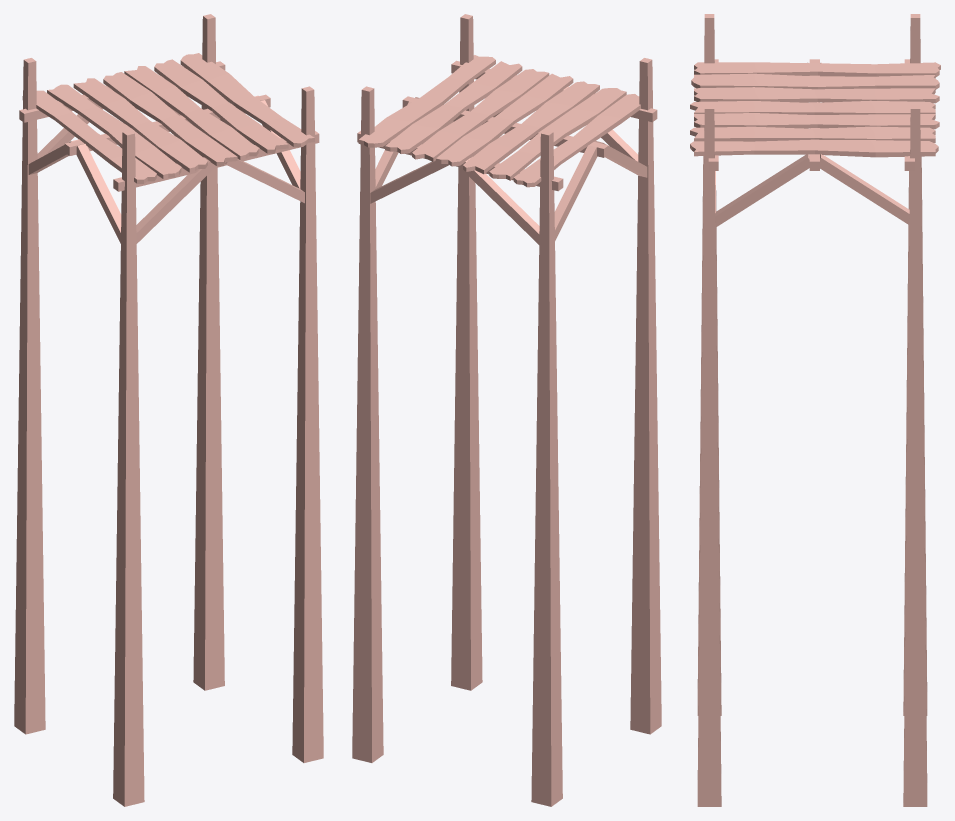
The model's file is Mega_Asset_s_Pack_Cube_266.FBX.
3 renders of one model, left to right at view 1: azimuth 30°, elevation 25°; view 2: azimuth 150°, elevation 25°; view 3: azimuth 270°, elevation 25°, orthographic. The views are drawn at different scales.
Visible parts, largest first — view 1: Mega_Asset_s_Pack_Cube_266; view 2: Mega_Asset_s_Pack_Cube_266; view 3: Mega_Asset_s_Pack_Cube_266.
Part boxes in pixels (<box>): Mega_Asset_s_Pack_Cube_266: <box>14,14,323,806</box>; Mega_Asset_s_Pack_Cube_266: <box>352,14,661,806</box>; Mega_Asset_s_Pack_Cube_266: <box>690,14,940,806</box>.
Size of what is drawn, in the model's own units: 287 by 298 by 910.
